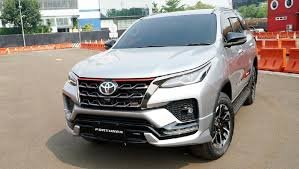mobil: (61, 7, 259, 162)
